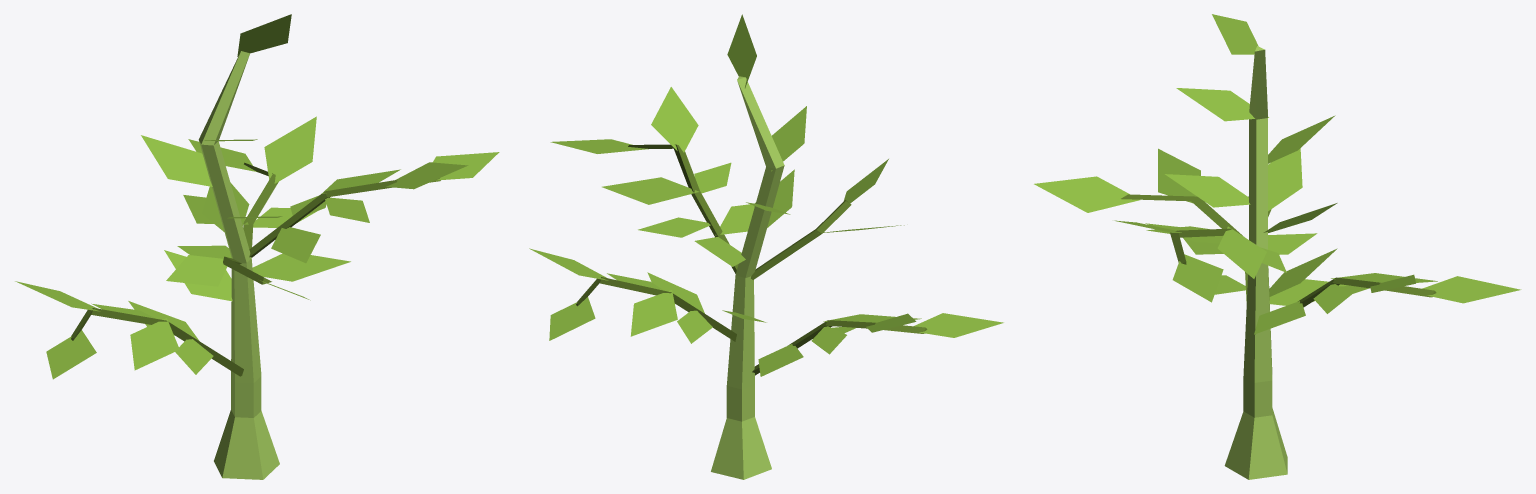
Rendered from potato_bush.fbx.
3 views of the same model, side by side, from view 1: azimuth 30°, elevation 25°; view 2: azimuth 150°, elevation 25°; view 3: azimuth 270°, elevation 25° (orthographic). The views are drawn at different scales.
Visible parts, largest first — view 1: potato_bush; view 2: potato_bush; view 3: potato_bush.
Part boxes in pixels (box(x1,y1,x2,y2)): potato_bush: box(15, 14, 499, 479); potato_bush: box(529, 14, 1003, 479); potato_bush: box(1034, 14, 1521, 479).
Bounding box in the file's own units: 132 × 125 × 120.
1 material, 1 textured.
